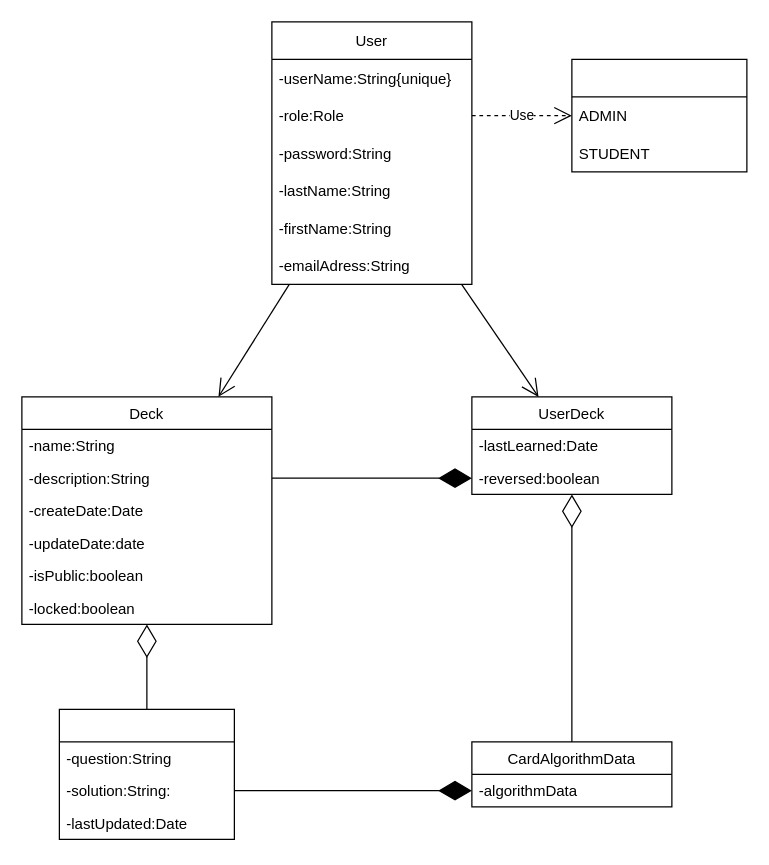
The diagram is 769 pixels wide and 865 high, and some of its shapes have lost their labels. Here are the shapes that lost their labels. From the top down, the box of each, then its label:
(571, 58, 747, 172): Role
(58, 708, 234, 839): Card
